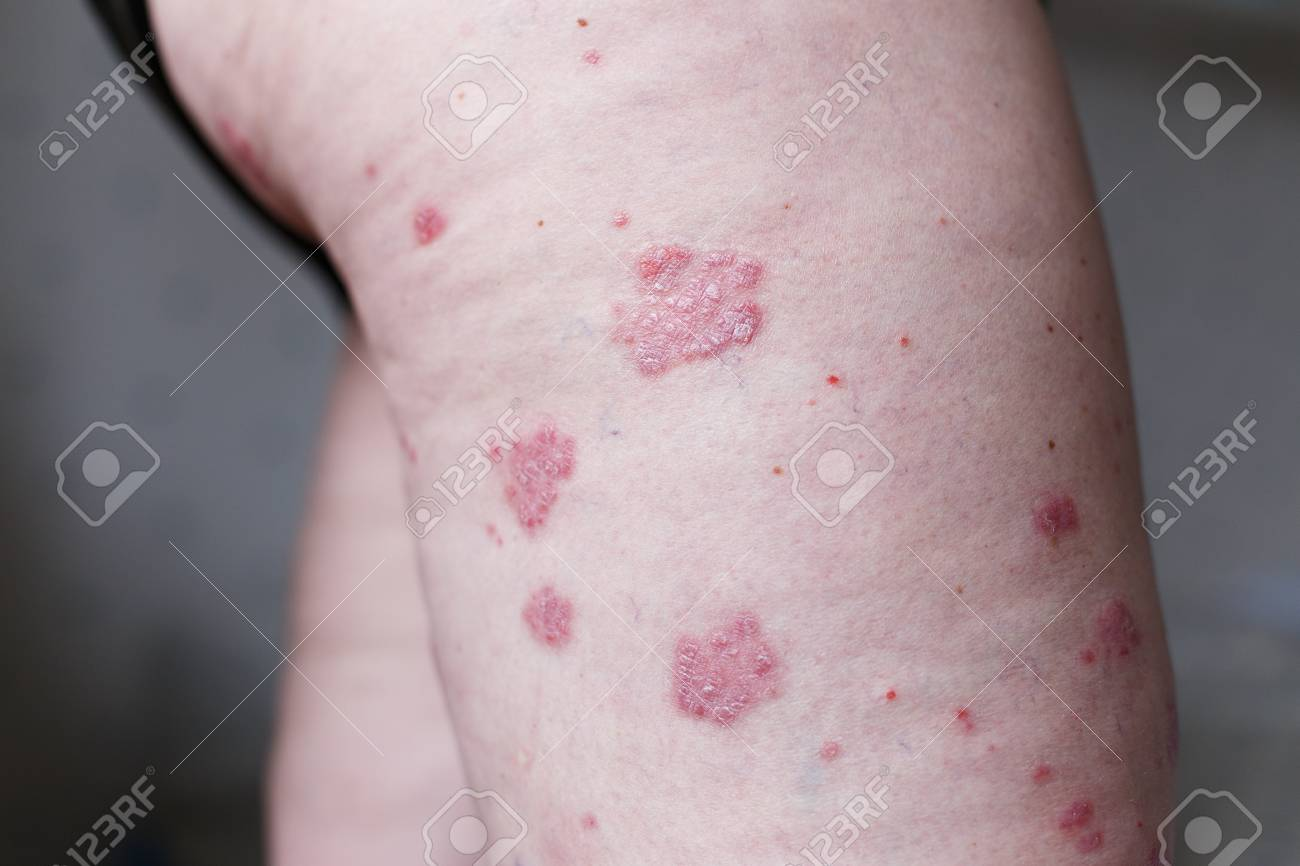Eczema: (444, 210, 900, 735)
